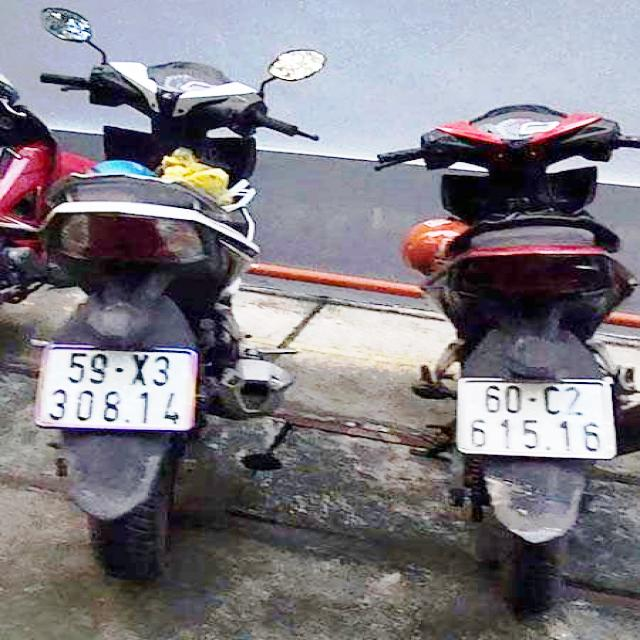license_plate: (35, 345, 196, 432), (459, 378, 612, 459)
